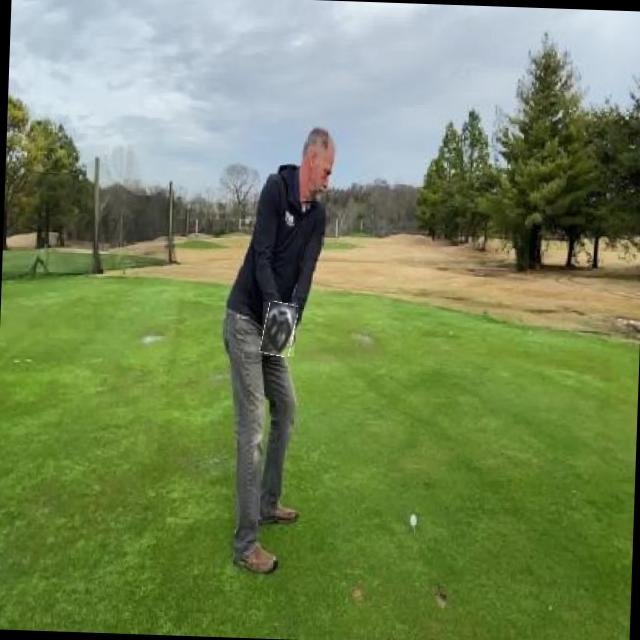club head: (260, 301, 296, 356)
